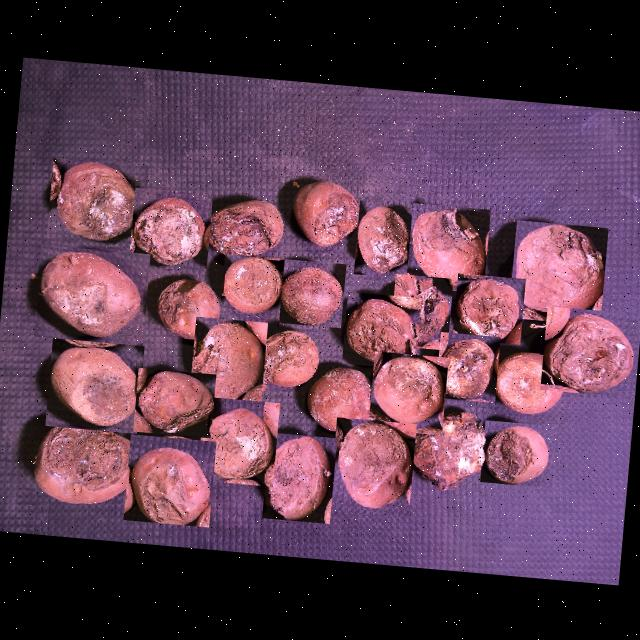Damaged potato: (21, 412, 142, 512), (32, 243, 150, 345), (507, 218, 607, 325), (44, 337, 144, 432), (45, 156, 148, 248), (394, 399, 492, 495), (539, 304, 638, 396), (328, 416, 416, 516), (122, 433, 215, 526), (404, 202, 490, 292), (187, 315, 267, 411), (194, 395, 278, 485), (127, 186, 212, 271), (199, 190, 288, 268), (261, 430, 336, 522), (367, 350, 448, 434), (340, 291, 420, 368), (284, 176, 363, 252), (132, 366, 216, 437), (478, 418, 556, 486), (451, 272, 524, 344), (272, 257, 345, 327), (150, 275, 224, 344), (352, 198, 414, 278), (388, 272, 452, 349), (434, 331, 499, 402), (252, 324, 322, 386)
Diseased-fungal potato: (486, 344, 570, 419), (298, 359, 376, 439), (218, 252, 284, 326)
